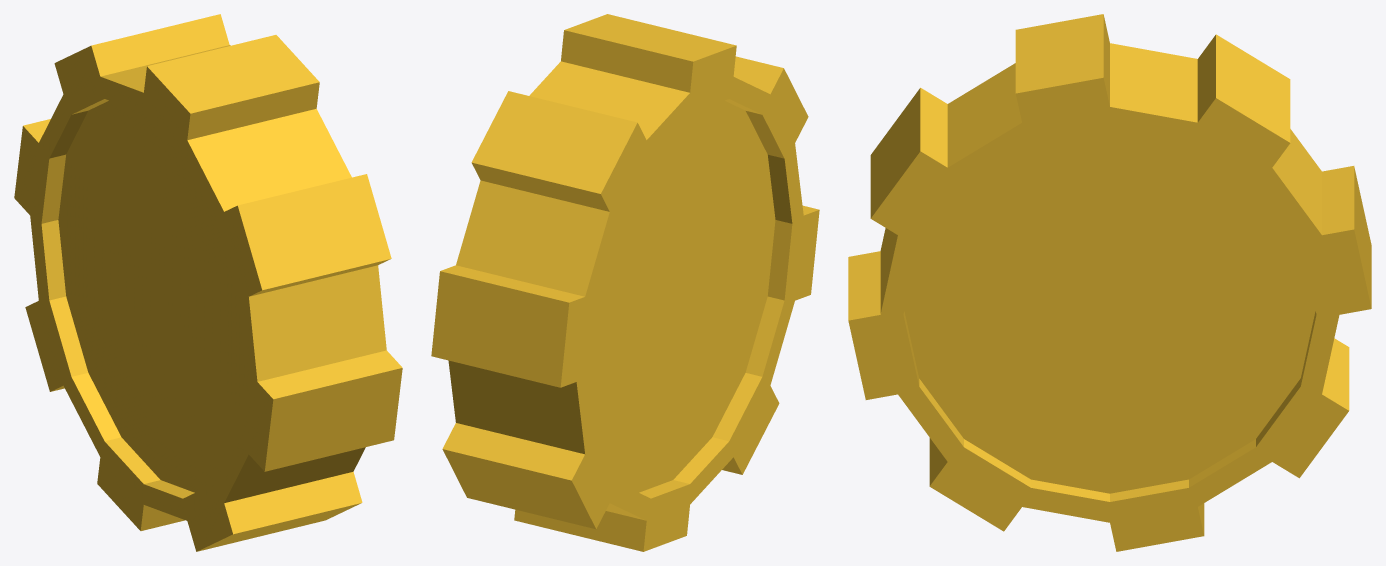
Rendered from GearCoin.obj.
3 views of the same model, side by side, from view 1: azimuth 30°, elevation 25°; view 2: azimuth 150°, elevation 25°; view 3: azimuth 270°, elevation 25° (orthographic).
Parts seen in each view (by area): view 1: Cylinder_Cylinder.002; view 2: Cylinder_Cylinder.002; view 3: Cylinder_Cylinder.002.
Part boxes in pixels (x1,y1,x2,y2): Cylinder_Cylinder.002: (14, 14, 402, 551); Cylinder_Cylinder.002: (431, 14, 819, 551); Cylinder_Cylinder.002: (848, 14, 1371, 551).
Bounding box in the file's own units: 0.23 × 0.7981 × 0.7981.
